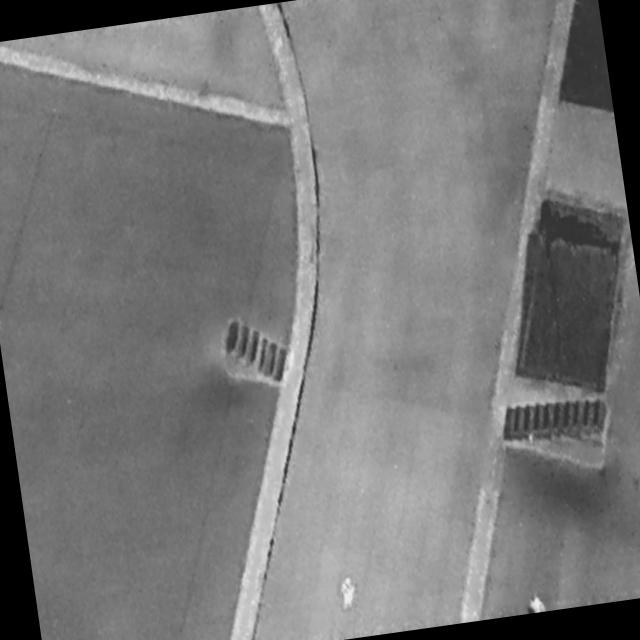person: (336, 574, 361, 615), (526, 592, 546, 614)
